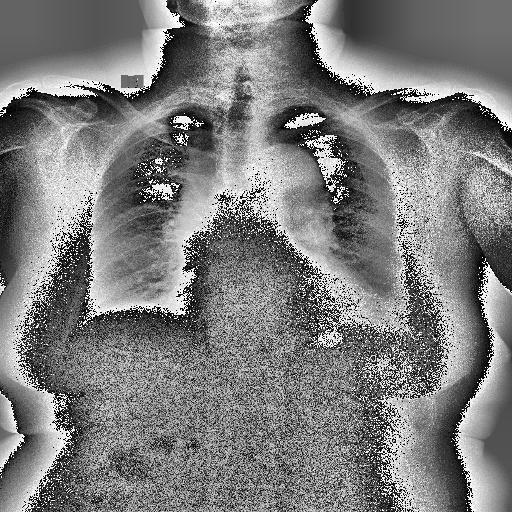0- Aortic enlargement: (248, 144, 334, 235), (258, 142, 334, 212), (246, 144, 324, 206)
3- Cardiomegaly: (159, 286, 383, 352), (164, 267, 383, 320), (171, 275, 383, 325)
